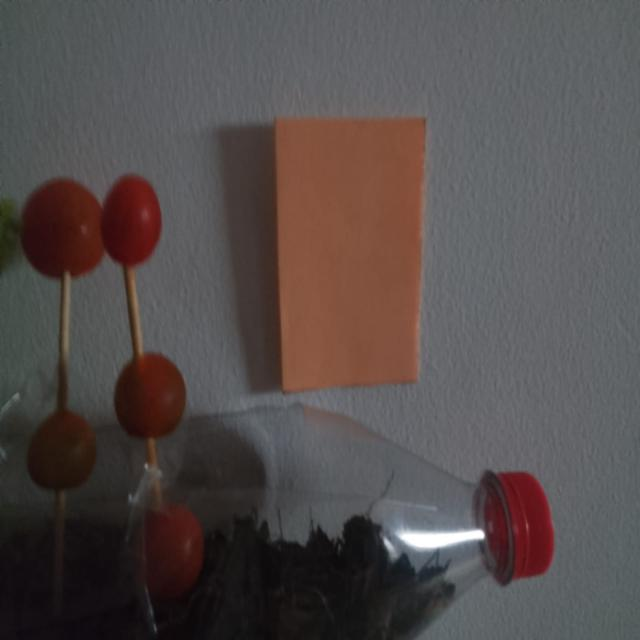card: (21, 175, 185, 495), (275, 118, 425, 391)
fruit_maturation: (21, 175, 203, 611)
